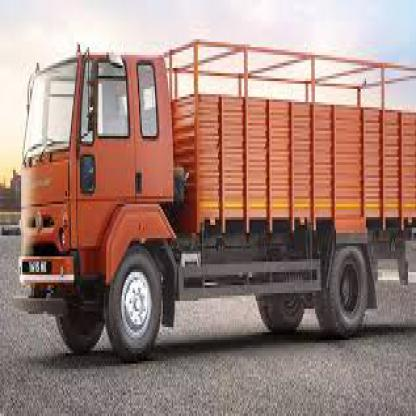tiper: (18, 40, 415, 366)
